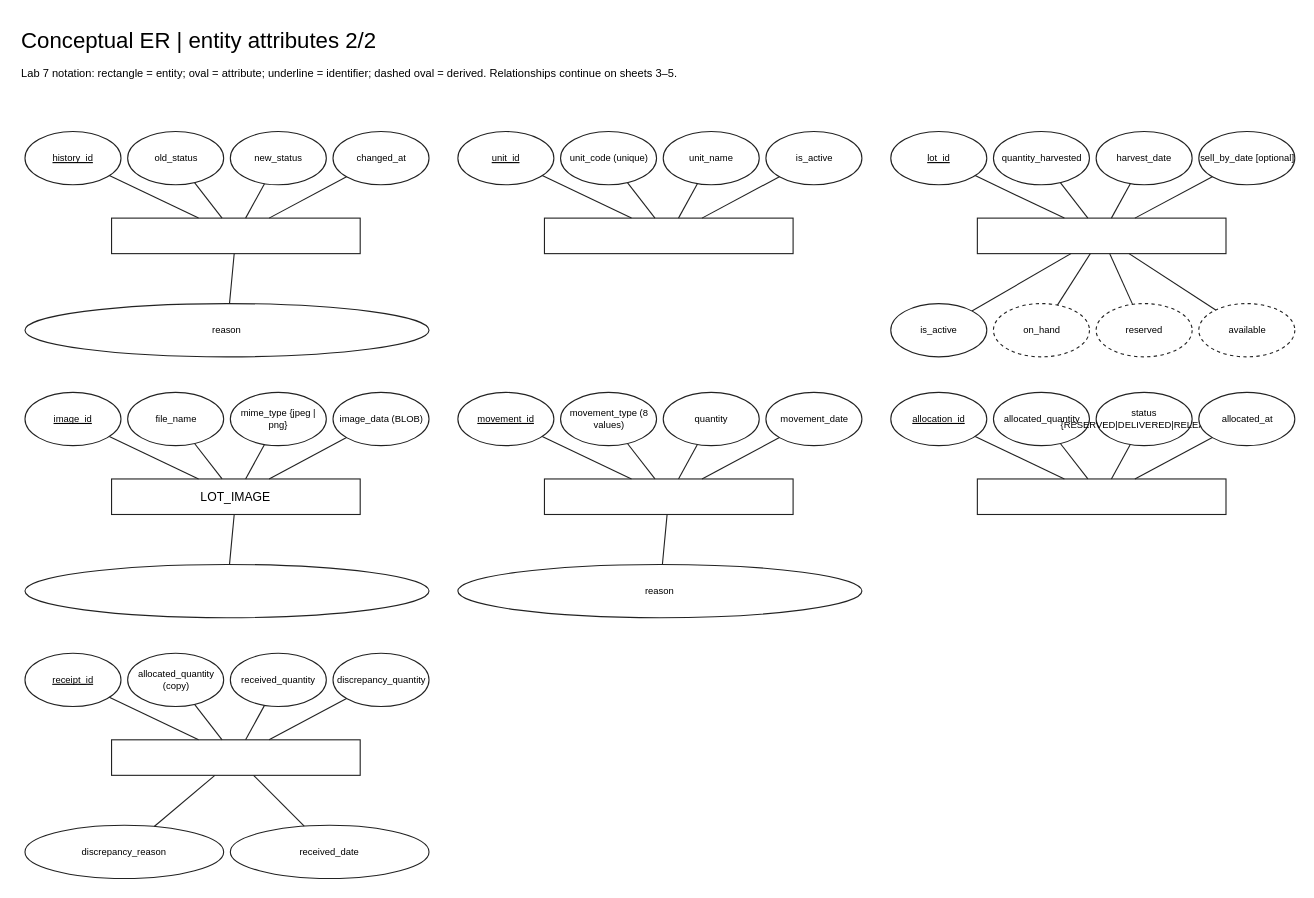
This 1314x898 diagram has some shape labels left out. The shapes that lost their labels are listed below. From the top down, each one's centre as x and y in pixels, then its label:
At point (235, 235): "REQUEST_STATUS_CHANGE".
At point (668, 235): "UNIT".
At point (1101, 235): "HARVEST_LOT".
At point (668, 496): "STOCK_MOVEMENT".
At point (1101, 496): "ALLOCATION".
At point (226, 590): "uploaded_at".
At point (235, 757): "DELIVERY_RECEIPT".
